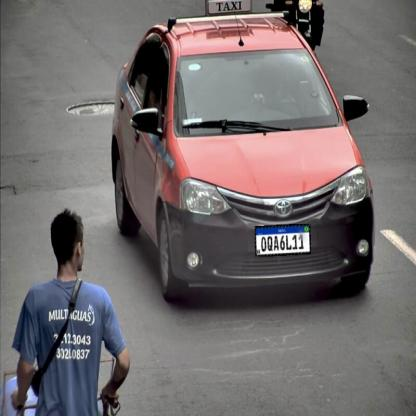PlacaM: (255, 224, 311, 256)
